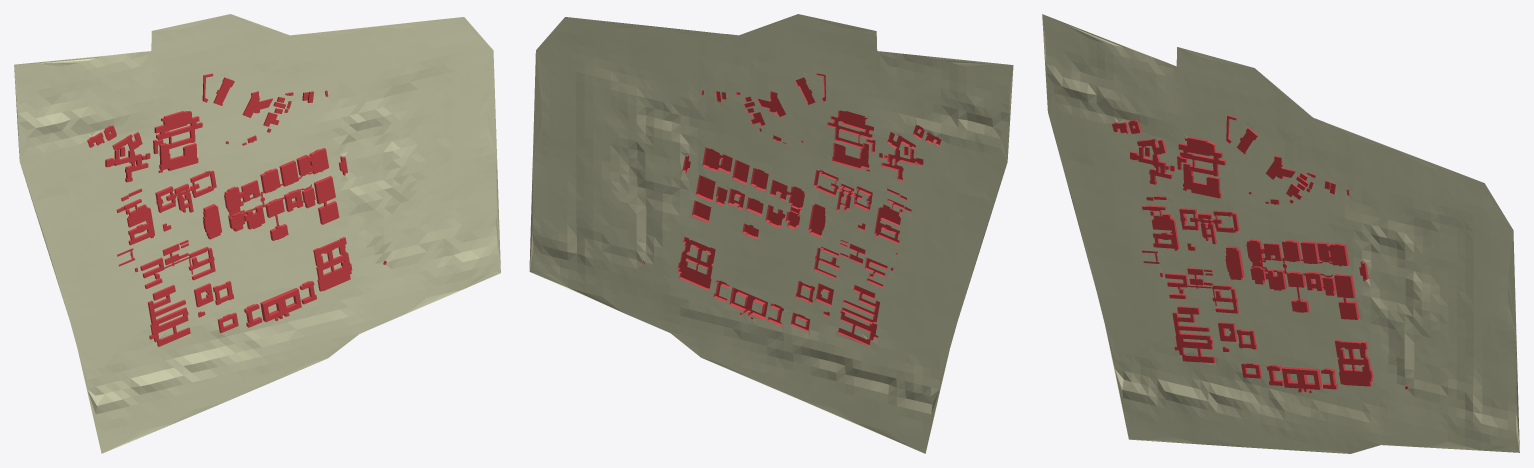
File: obj275D_cput3d-25m-bld.obj
The picture shows the model from 3 angles, left to right: view 1: azimuth 30°, elevation 25°; view 2: azimuth 150°, elevation 25°; view 3: azimuth 330°, elevation 25°; orthographic projection.
Parts seen in each view (by area): view 1: terrain01, 12295766, 12279396, 12213843, 12303540, 13076003, 897485638, 12405081, 897589025, 14252583, 12445159, 904201083; view 2: terrain01, 12295766, 12213843, 12279396, 13076003, 12303540, 897589025, 897485638, 14252583, 12405081, 12445159; view 3: terrain01, 12295766, 12279396, 12213843, 12303540, 13076003, 897485638, 12405081, 897589025, 12445159, 14252583, 904201083.
Boxes of the visible parts, <box> form: terrain01: <box>14,14,500,453</box>; 12295766: <box>313,237,352,291</box>; 12279396: <box>155,170,216,212</box>; 12213843: <box>154,111,202,149</box>; 12303540: <box>105,132,148,182</box>; 13076003: <box>123,199,154,245</box>; 897485638: <box>147,285,187,324</box>; 12405081: <box>260,288,301,321</box>; 897589025: <box>159,143,198,170</box>; 14252583: <box>149,311,190,346</box>; 12445159: <box>296,148,328,175</box>; 904201083: <box>203,204,221,239</box>; terrain01: <box>529,14,1013,453</box>; 12295766: <box>678,236,715,289</box>; 12213843: <box>827,110,873,147</box>; 12279396: <box>813,170,872,211</box>; 13076003: <box>874,199,904,243</box>; 12303540: <box>881,132,923,180</box>; 897589025: <box>832,143,869,169</box>; 897485638: <box>841,285,879,323</box>; 14252583: <box>838,311,878,346</box>; 12405081: <box>729,287,767,319</box>; 12445159: <box>702,147,732,173</box>; terrain01: <box>1042,14,1519,453</box>; 12295766: <box>1335,340,1373,386</box>; 12279396: <box>1179,208,1239,244</box>; 12213843: <box>1178,137,1225,176</box>; 12303540: <box>1130,138,1172,184</box>; 13076003: <box>1148,205,1179,250</box>; 897485638: <box>1172,306,1211,340</box>; 12405081: <box>1282,366,1322,391</box>; 897589025: <box>1183,162,1221,198</box>; 12445159: <box>1317,242,1349,266</box>; 14252583: <box>1174,336,1215,362</box>; 904201083: <box>1225,246,1244,279</box>.
Bounding box in the file's own units: 1389 × 1124 × 17.86.
